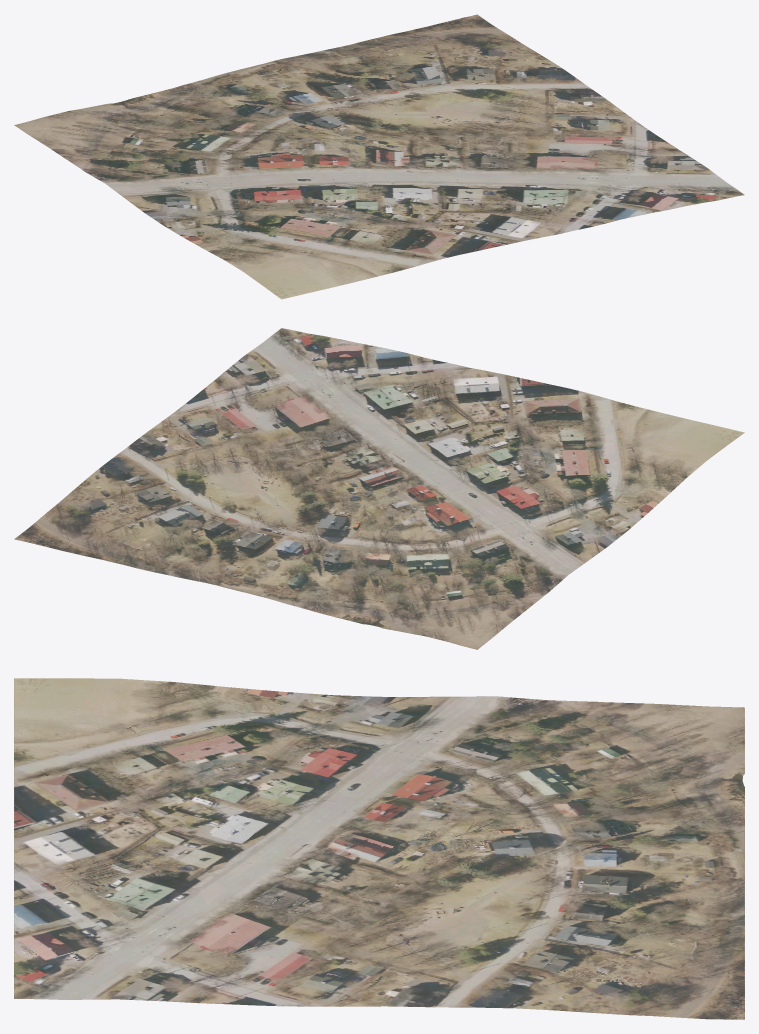
The model's file is CM_Terrain_24488615_6819794.fbx.
3 views of the same model, one above another, from view 1: azimuth 30°, elevation 25°; view 2: azimuth 150°, elevation 25°; view 3: azimuth 270°, elevation 25° (orthographic). The views are drawn at different scales.
Parts seen in each view (by area): view 1: CM_Terrain_24488615_6819794_LOD0; view 2: CM_Terrain_24488615_6819794_LOD0; view 3: CM_Terrain_24488615_6819794_LOD0.
Boxes of the visible parts, x1,y1,x2,y2 form: CM_Terrain_24488615_6819794_LOD0: (14,14,744,299); CM_Terrain_24488615_6819794_LOD0: (14,328,744,649); CM_Terrain_24488615_6819794_LOD0: (14,678,744,1019).
Size of what is drawn, in the model's own units: 205 by 10.62 by 205.
